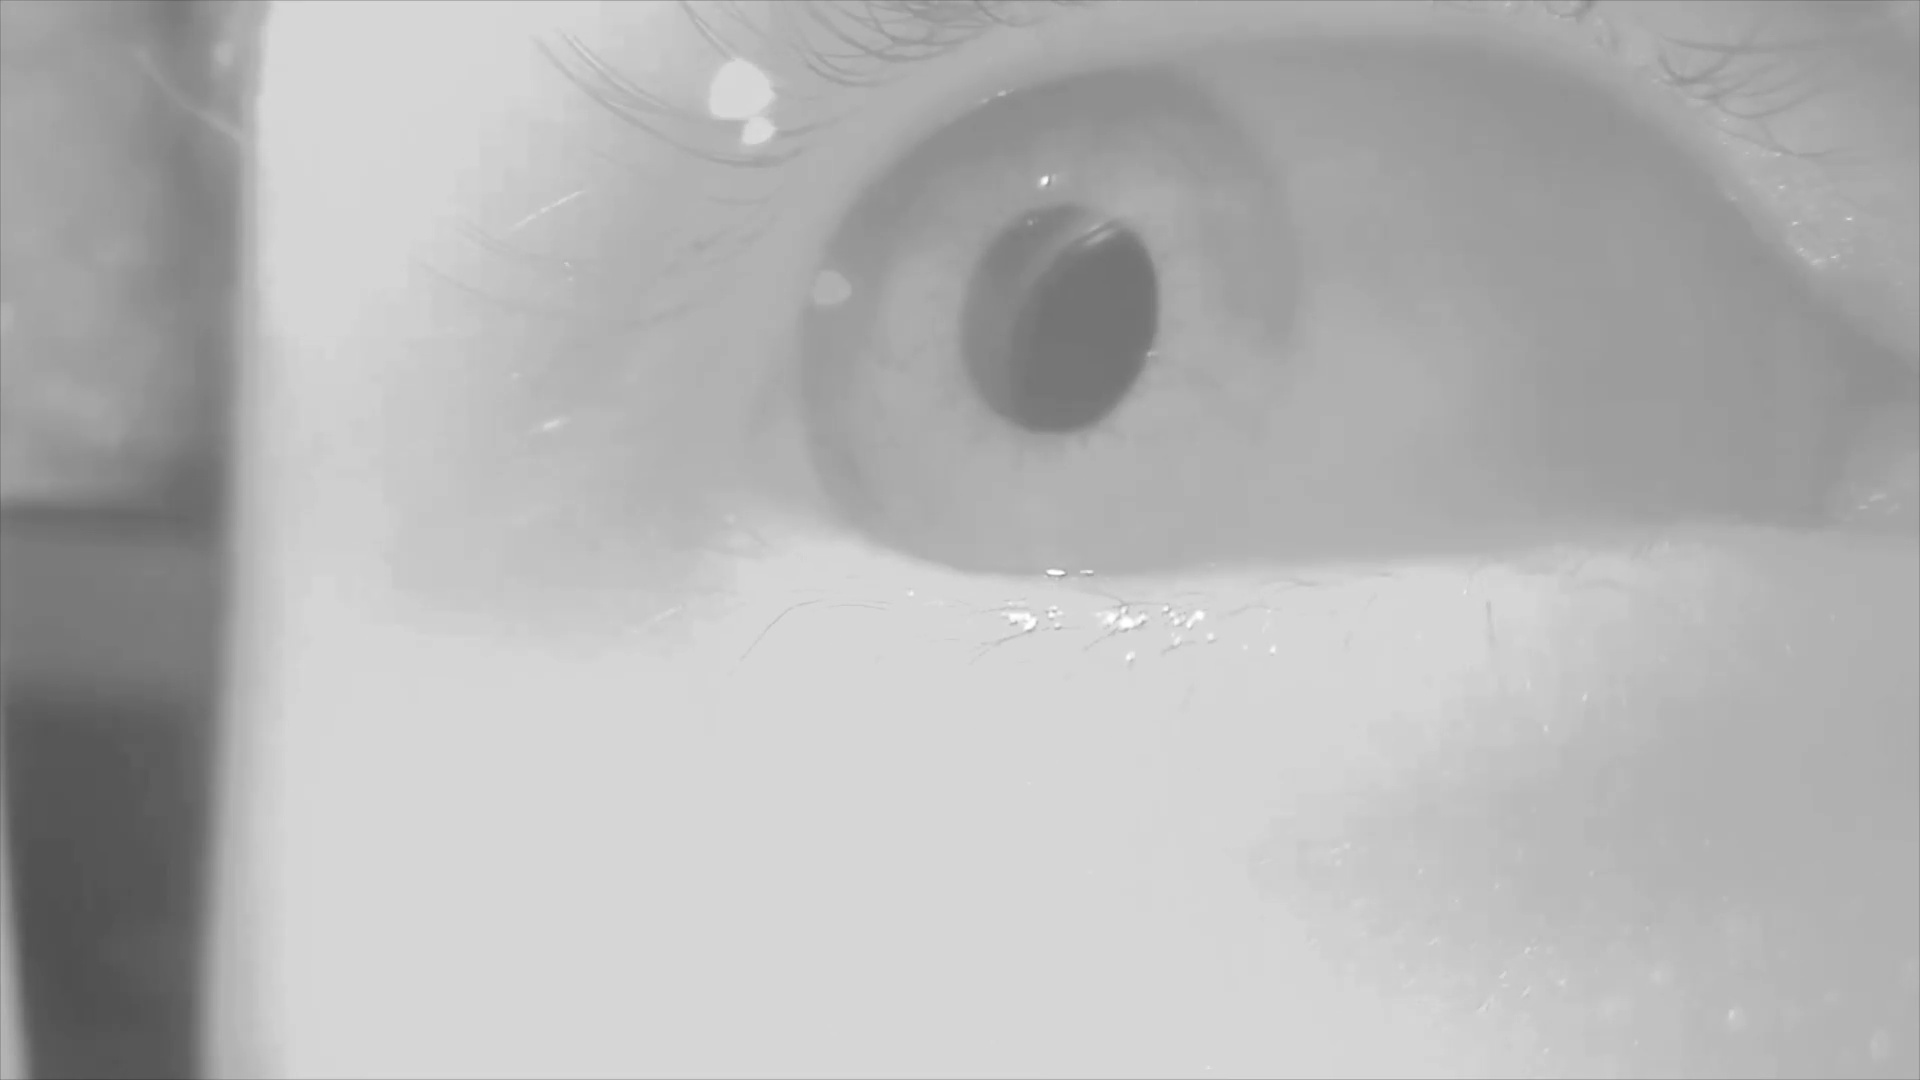pupil: (951, 211, 1159, 433)
